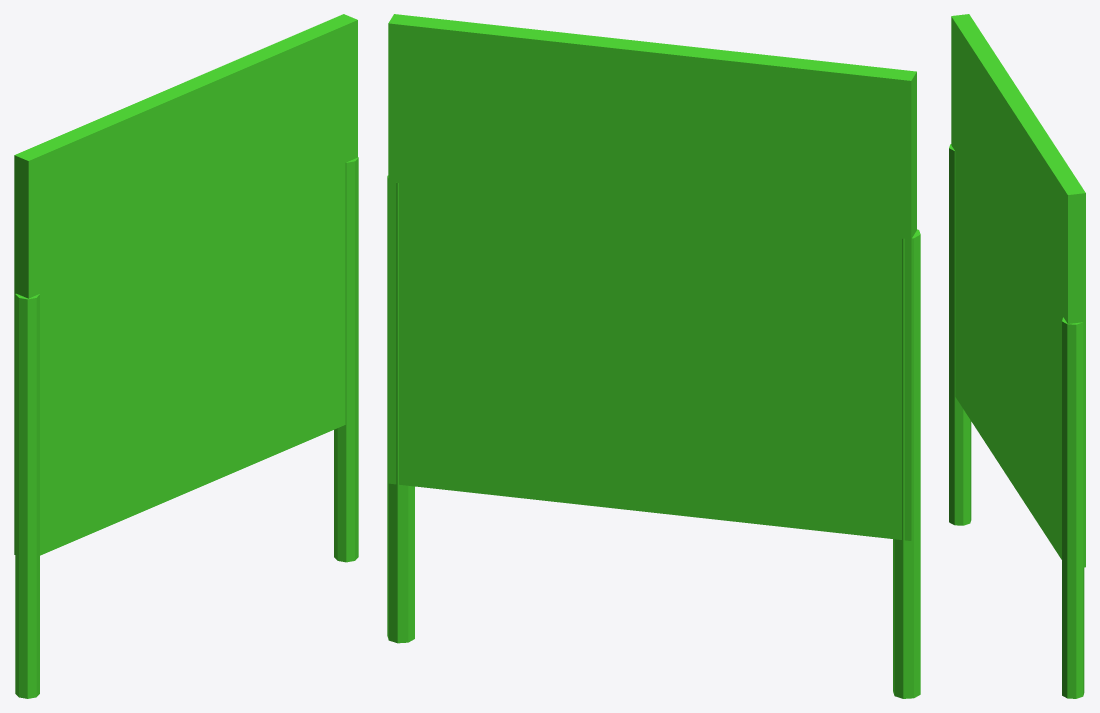
Rendered from cylinder.002_lev1.001_lev2.glb.
3 views of the same model, side by side, from view 1: azimuth 30°, elevation 25°; view 2: azimuth 150°, elevation 25°; view 3: azimuth 270°, elevation 25° (orthographic). The views are drawn at different scales.
Visible parts, largest first — view 1: cylinder.002_lev1.001_lev2; view 2: cylinder.002_lev1.001_lev2; view 3: cylinder.002_lev1.001_lev2.
Part boxes in pixels (<box>): cylinder.002_lev1.001_lev2: <box>14,14,358,698</box>; cylinder.002_lev1.001_lev2: <box>387,14,920,698</box>; cylinder.002_lev1.001_lev2: <box>949,14,1085,698</box>.
Bounding box in the file's own units: 3.84 × 4.93 × 1.21.
